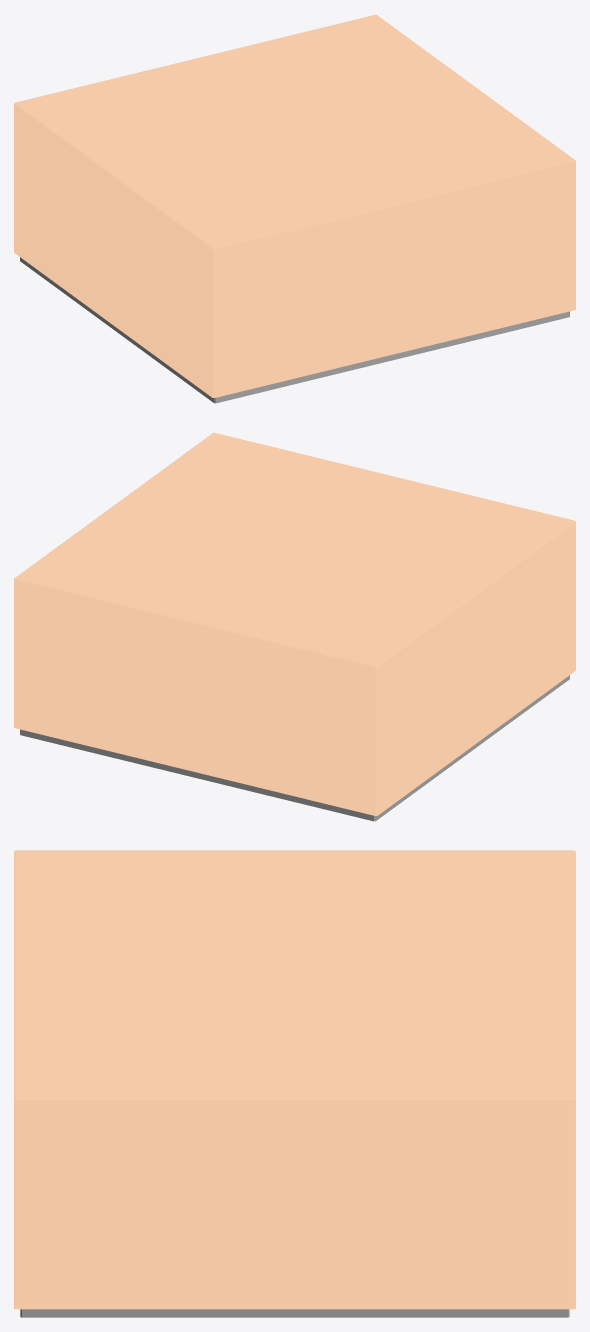
File: NMS_Display_Box3_01.001.gltf
The picture shows the model from 3 angles, top to bottom: view 1: azimuth 30°, elevation 25°; view 2: azimuth 150°, elevation 25°; view 3: azimuth 270°, elevation 25°; orthographic projection. The views are drawn at different scales.
Parts seen in each view (by area): view 1: NMS_Display_Box3_01; view 2: NMS_Display_Box3_01; view 3: NMS_Display_Box3_01.
Part boxes in pixels (x1,y1,x2,y2): NMS_Display_Box3_01: (14, 14, 575, 403); NMS_Display_Box3_01: (14, 432, 575, 821); NMS_Display_Box3_01: (14, 850, 575, 1317).
Size of what is drawn, in the model's own units: 2.1 by 0.87 by 2.
